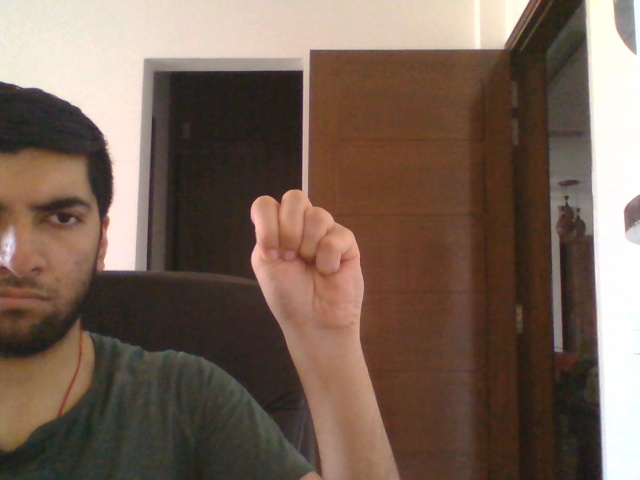LetterM: (250, 188, 366, 333)
